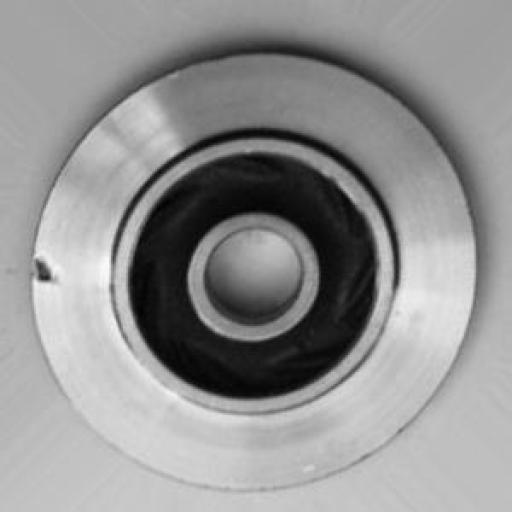defect: (24, 245, 71, 308)
